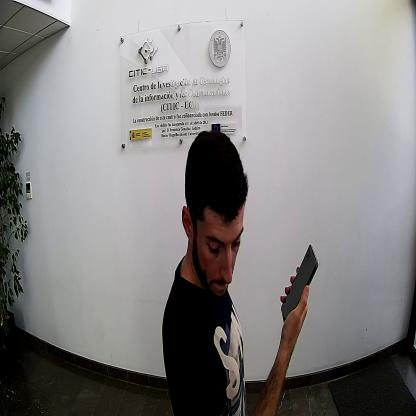smartphone: (280, 242, 320, 326)
